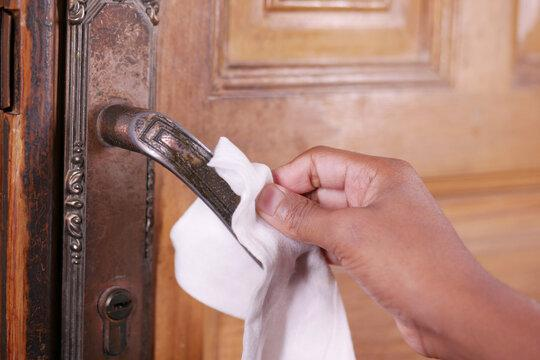doorhandle: (72, 78, 346, 308)
